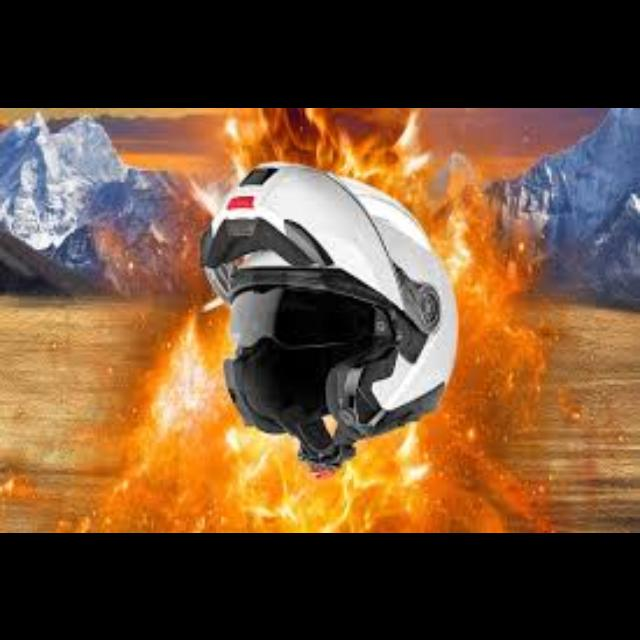motorcycle-helmets: (205, 163, 454, 468)
